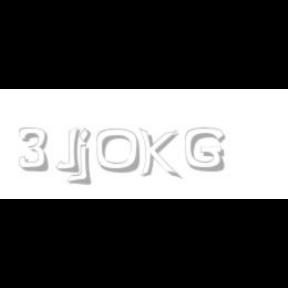3: (18, 128, 50, 172)
G: (185, 128, 225, 172)
J: (55, 128, 80, 172)
K: (138, 128, 178, 180)
O: (96, 128, 142, 174)
j: (76, 128, 106, 186)
